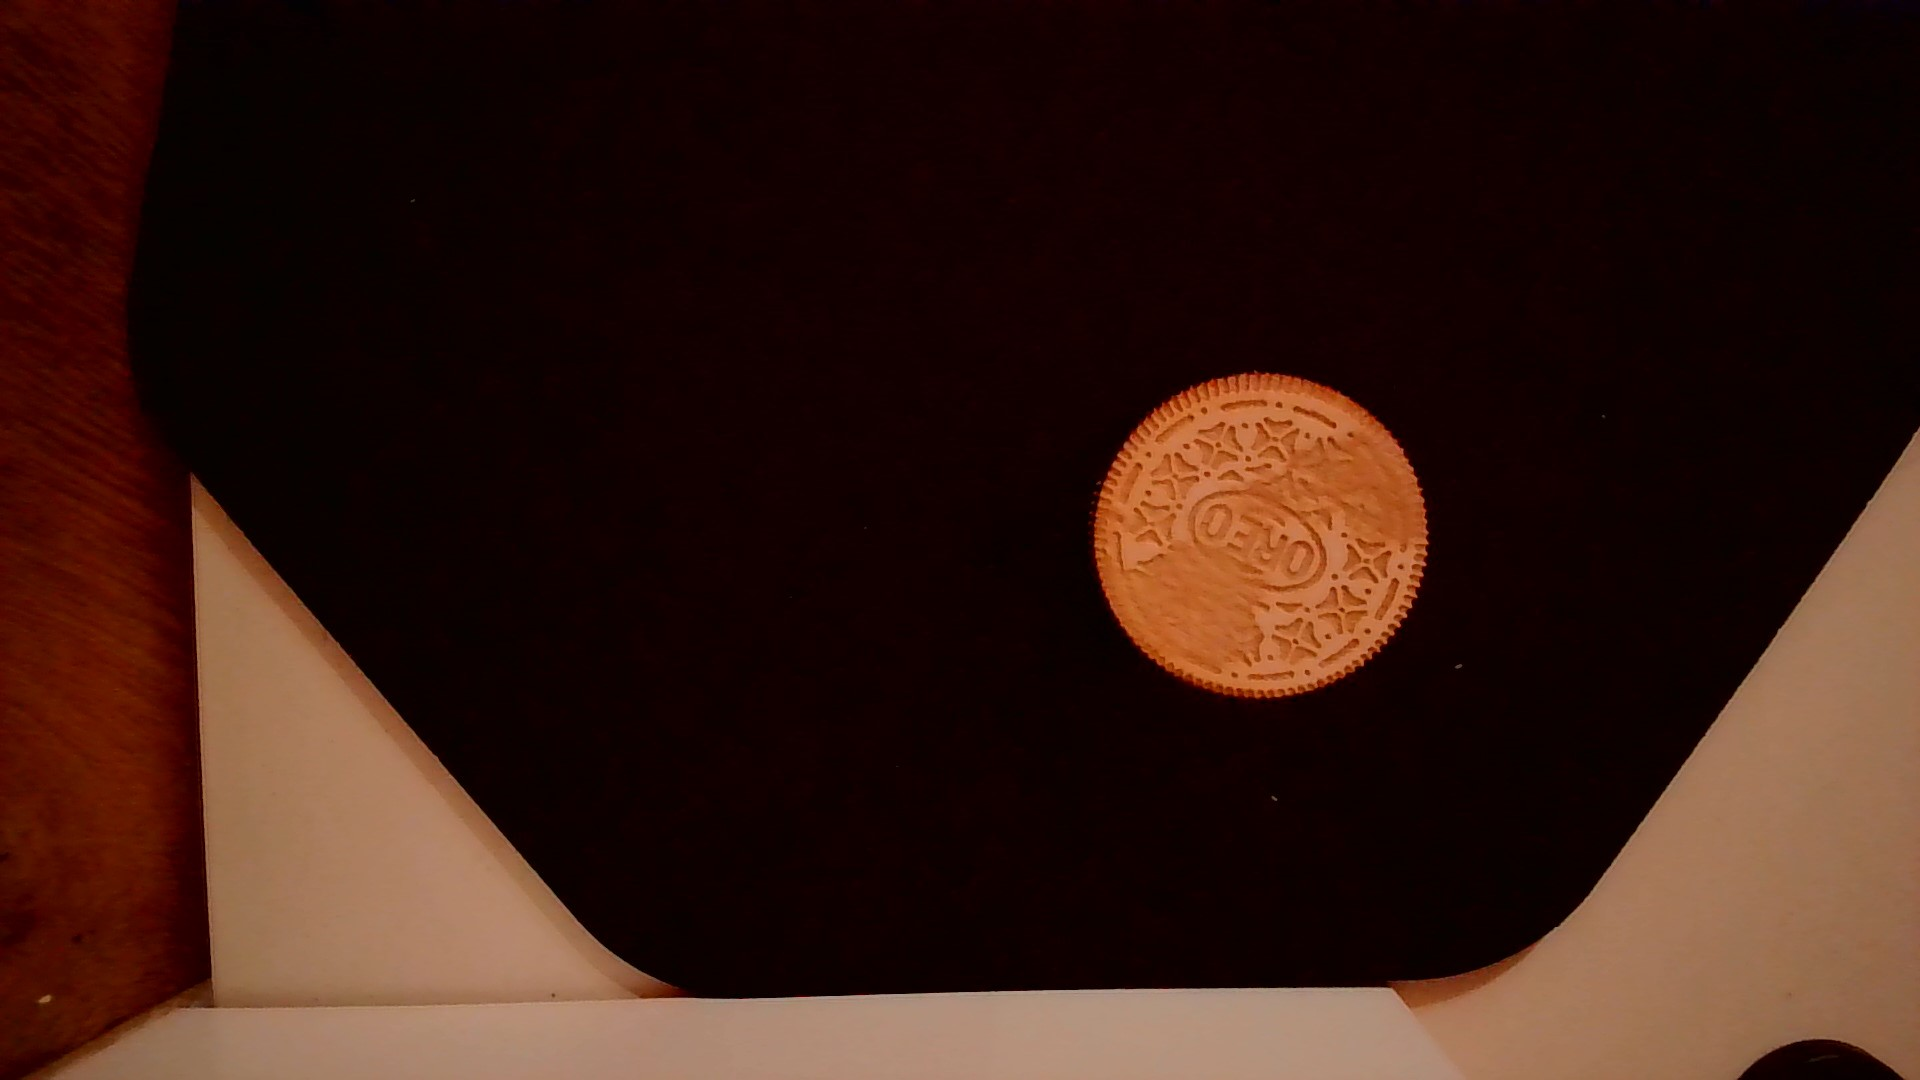Effacé: (1298, 405, 1435, 534), (1113, 553, 1257, 659)
Oréo: (1085, 367, 1433, 708)
